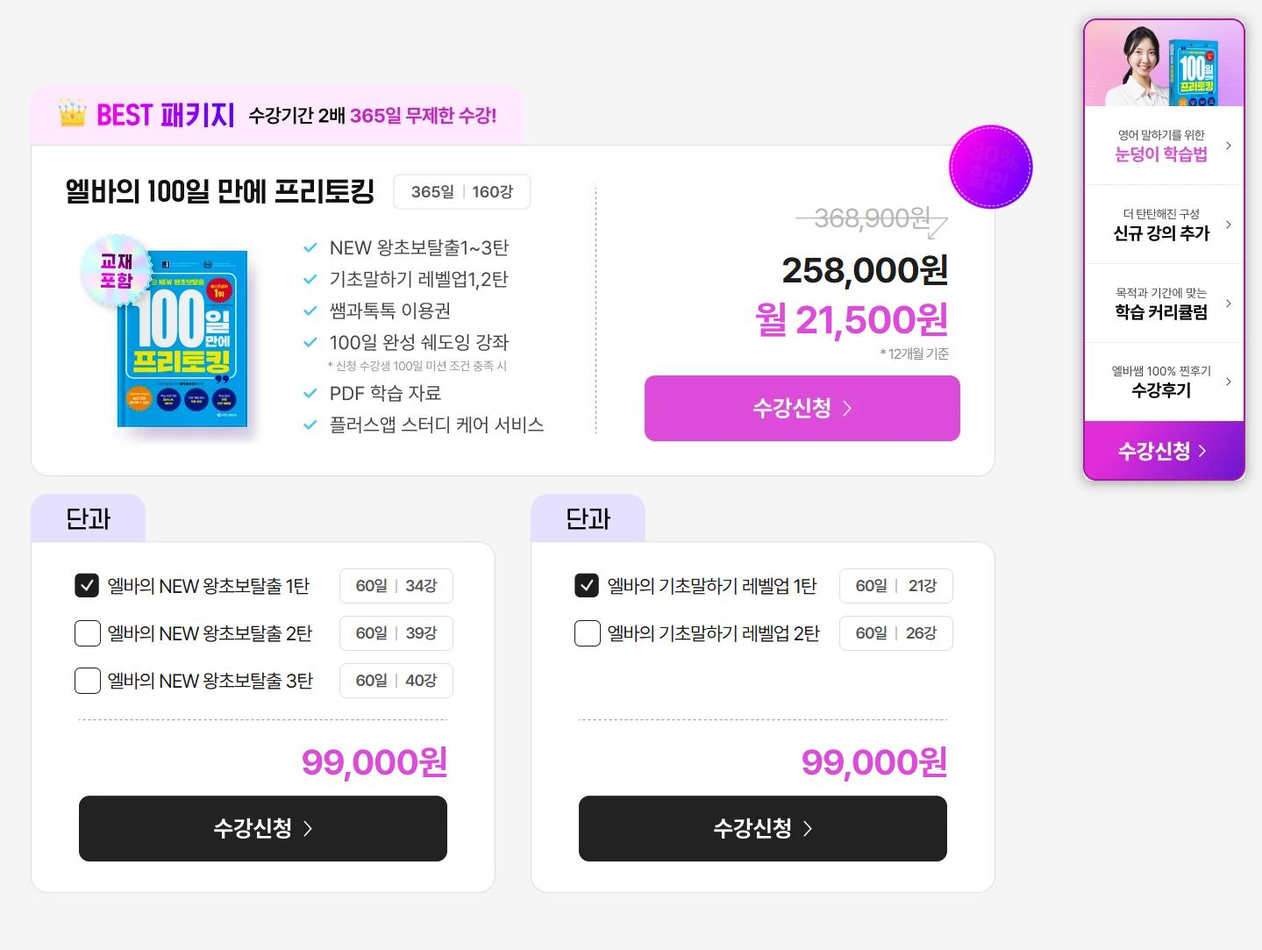button: (578, 793, 947, 861), (80, 794, 447, 862), (641, 372, 965, 443), (1096, 109, 1238, 176), (1092, 269, 1234, 334), (1104, 351, 1237, 413), (1095, 195, 1234, 249), (1095, 424, 1235, 473)
checkbox: (65, 562, 459, 610), (68, 660, 459, 702), (67, 613, 465, 654), (571, 565, 957, 606), (572, 614, 964, 654)
popup: (1077, 10, 1250, 485)
